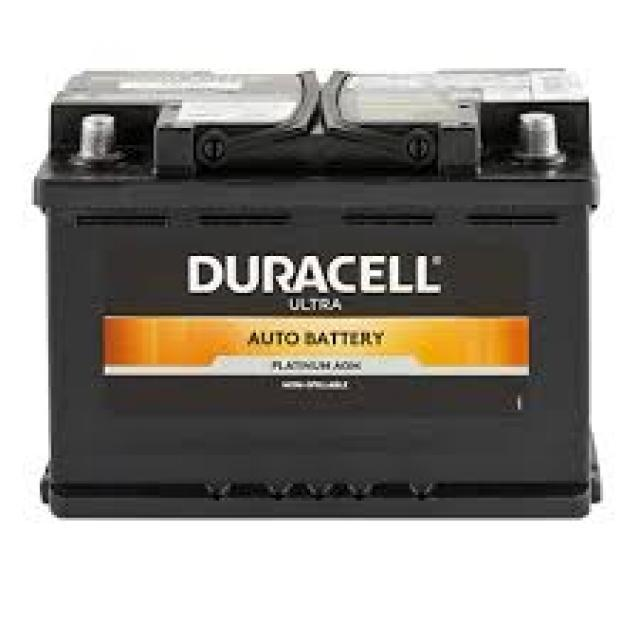battery: (38, 71, 606, 518)
